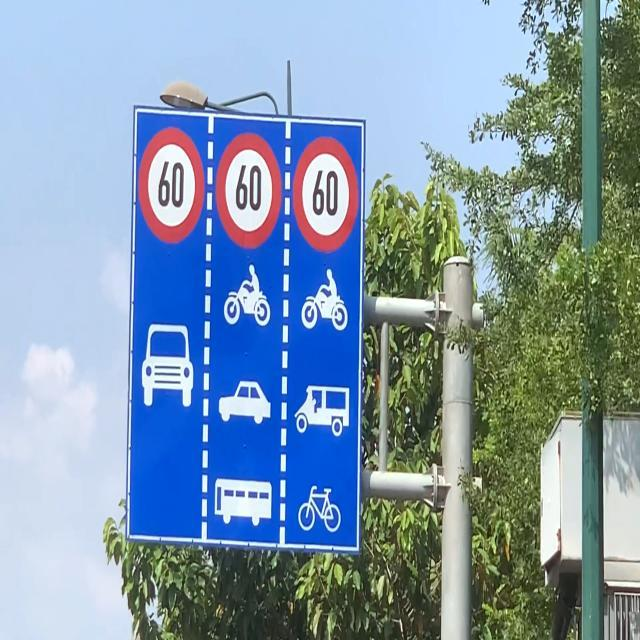P-127c: (129, 107, 365, 556)
